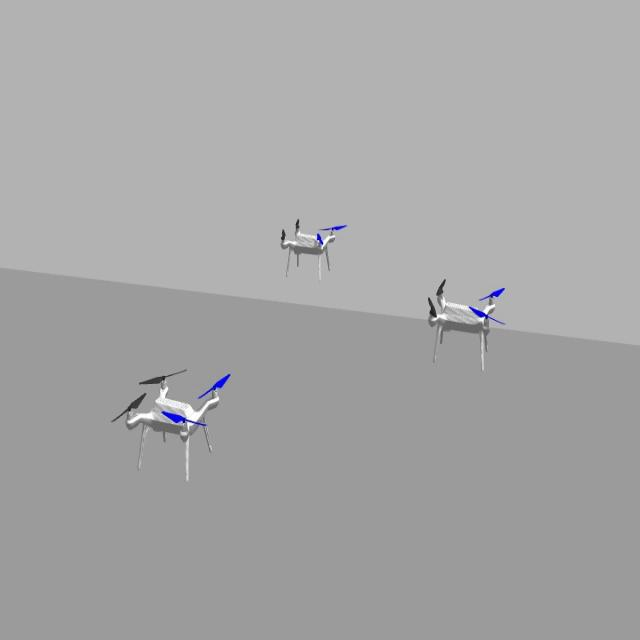Drone: (275, 200, 352, 286)
